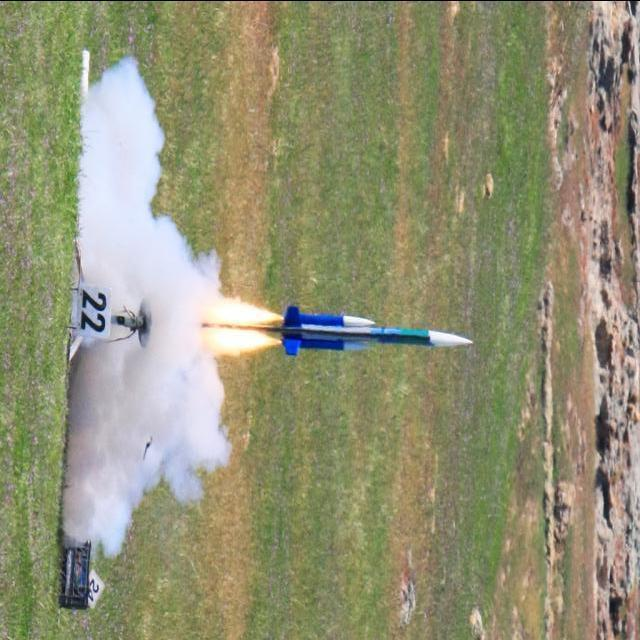missile: (247, 298, 486, 383)
